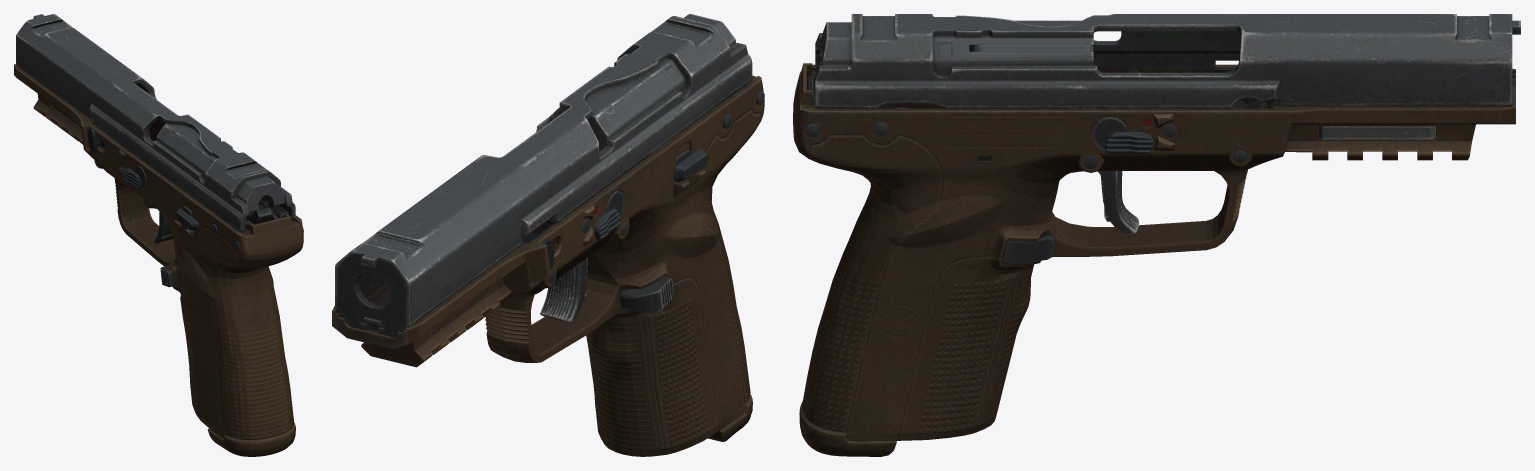
3 renders of one model, left to right at view 1: azimuth 30°, elevation 25°; view 2: azimuth 150°, elevation 25°; view 3: azimuth 270°, elevation 25°, orthographic. The views are drawn at different scales.
Visible parts, largest first — view 1: TW_5d67abc1a4b93614ec50137f_PZ_Import; view 2: TW_5d67abc1a4b93614ec50137f_PZ_Import; view 3: TW_5d67abc1a4b93614ec50137f_PZ_Import.
Part boxes in pixels (x1,y1,x2,y2): TW_5d67abc1a4b93614ec50137f_PZ_Import: (14, 14, 303, 456); TW_5d67abc1a4b93614ec50137f_PZ_Import: (332, 14, 764, 456); TW_5d67abc1a4b93614ec50137f_PZ_Import: (793, 14, 1520, 456).
Size of the model in its own units: 0.0215 by 0.1205 by 0.0752.
1 material, 1 textured.
